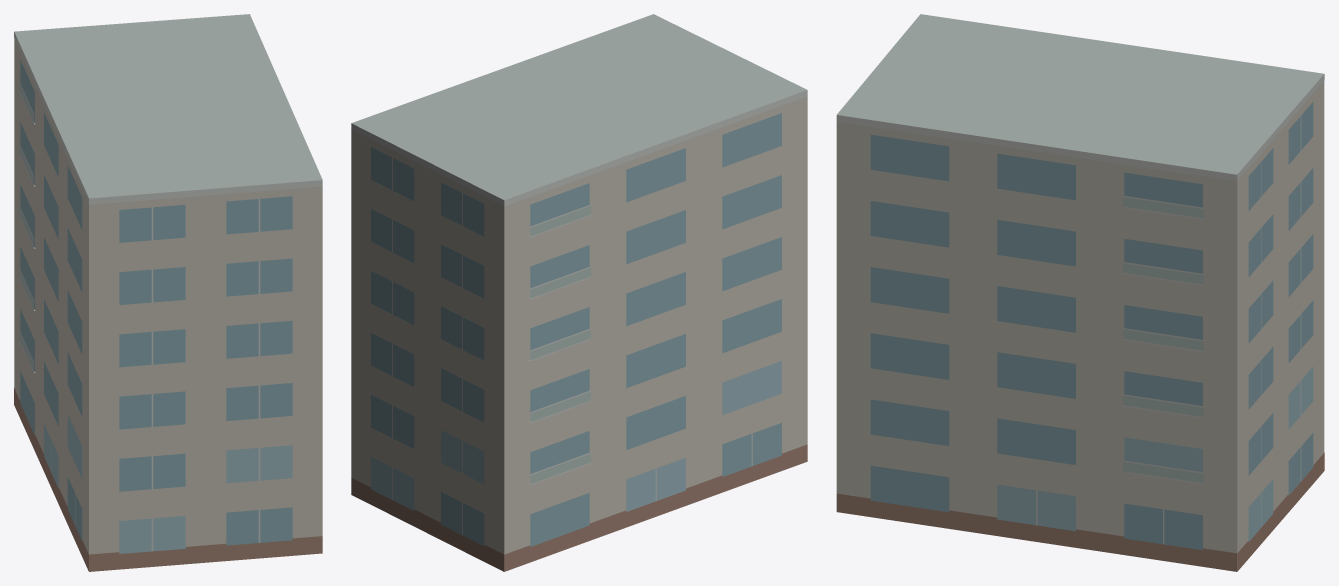
The model's file is survey-upis-32991940.glb.
3 renders of one model, left to right at view 1: azimuth 30°, elevation 25°; view 2: azimuth 150°, elevation 25°; view 3: azimuth 270°, elevation 25°, orthographic. The views are drawn at different scales.
Visible parts, largest first — view 1: survey-upis-32991940.tmp; view 2: survey-upis-32991940.tmp; view 3: survey-upis-32991940.tmp.
Boxes of the visible parts, box(x1,y1,x2,y2) form: survey-upis-32991940.tmp: box(14, 14, 322, 571); survey-upis-32991940.tmp: box(351, 14, 807, 571); survey-upis-32991940.tmp: box(836, 14, 1324, 571).
Size of the model in its own units: 12.51 by 14.4 by 16.04.
